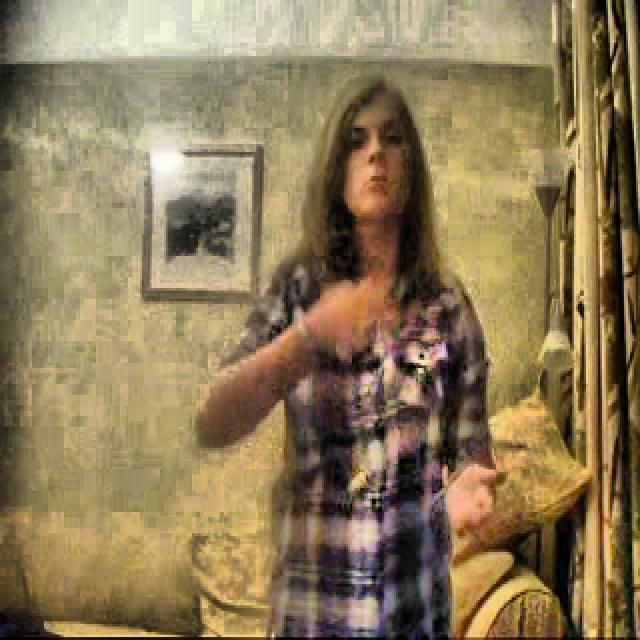F: (194, 66, 499, 640)
